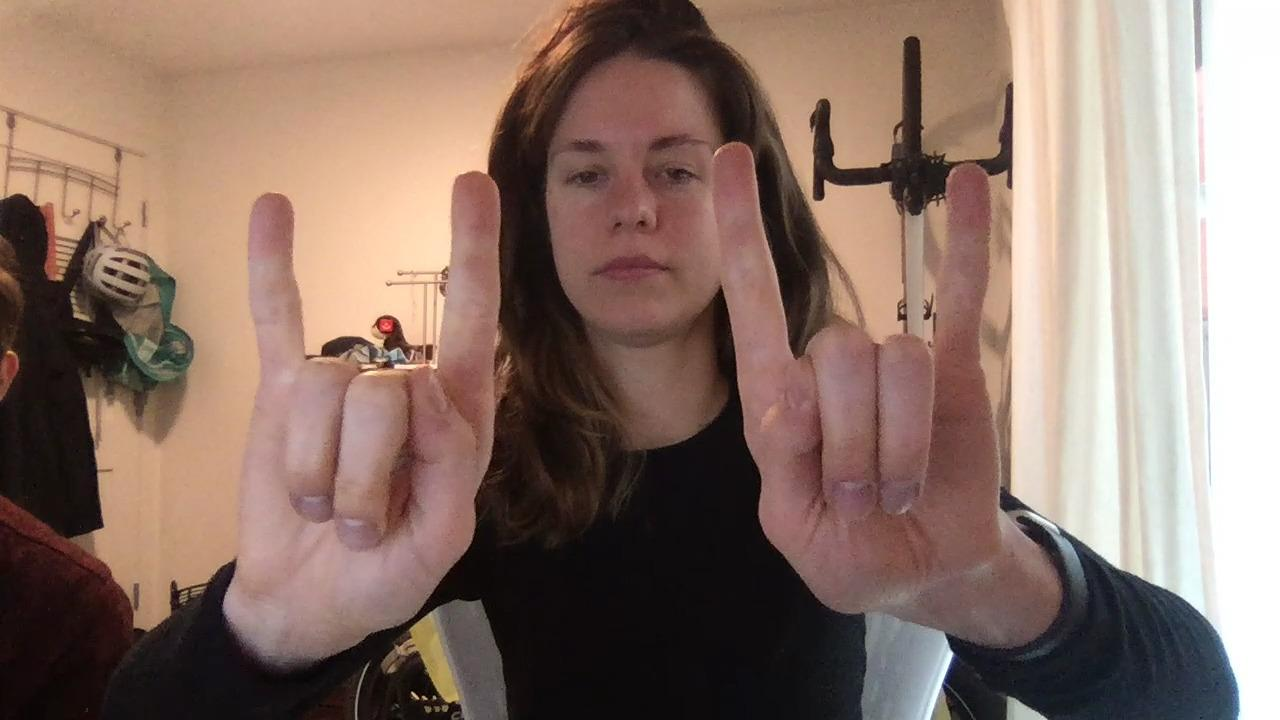face: (542, 72, 731, 343)
